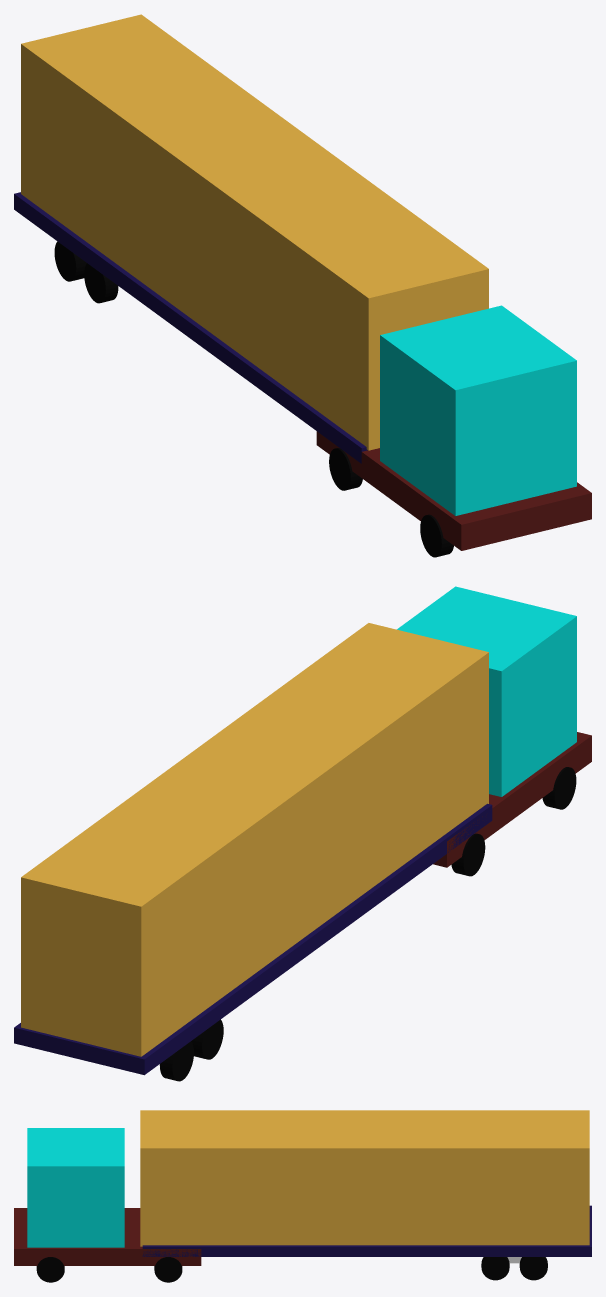
The model's file is truck.gltf.
3 views of the same model, one above another, from view 1: azimuth 30°, elevation 25°; view 2: azimuth 150°, elevation 25°; view 3: azimuth 270°, elevation 25° (orthographic). The views are drawn at different scales.
Visible parts, largest first — view 1: Cube.004, Cube.002, Cube.001, Cube, Cylinder.003, Cylinder.002, Cylinder.007, Cylinder.004; view 2: Cube.004, Cube.002, Cube, Cube.001, Cylinder.003, Cylinder.002, Cylinder.004, Cylinder.007; view 3: Cube.004, Cube.002, Cube, Cube.001, Cylinder.001, Cylinder, Cylinder.006, Cylinder.005.
Boxes of the visible parts, box(x1,y1,x2,y2) form: Cube.004: box(21, 14, 488, 450); Cube.002: box(380, 305, 576, 515); Cube.001: box(316, 431, 591, 550); Cube: box(14, 192, 367, 463); Cylinder.003: box(420, 514, 453, 557); Cylinder.002: box(329, 448, 362, 490); Cylinder.007: box(84, 263, 118, 303); Cylinder.004: box(54, 241, 86, 281); Cube.004: box(21, 623, 488, 1056); Cube.002: box(397, 586, 576, 796); Cube: box(14, 803, 492, 1075); Cube.001: box(433, 732, 591, 867); Cylinder.003: box(542, 767, 576, 809); Cylinder.002: box(451, 833, 485, 876); Cylinder.004: box(159, 1041, 193, 1081); Cylinder.007: box(191, 1019, 223, 1059); Cube.004: box(140, 1110, 589, 1246); Cube.002: box(27, 1128, 124, 1247); Cube: box(142, 1205, 591, 1256); Cube.001: box(14, 1208, 201, 1265); Cylinder.001: box(154, 1257, 182, 1282); Cylinder: box(36, 1257, 64, 1282); Cylinder.006: box(481, 1257, 509, 1280); Cylinder.005: box(519, 1257, 547, 1280).
Bounding box in the file's own units: 5.32 × 7.81 × 30.88.
